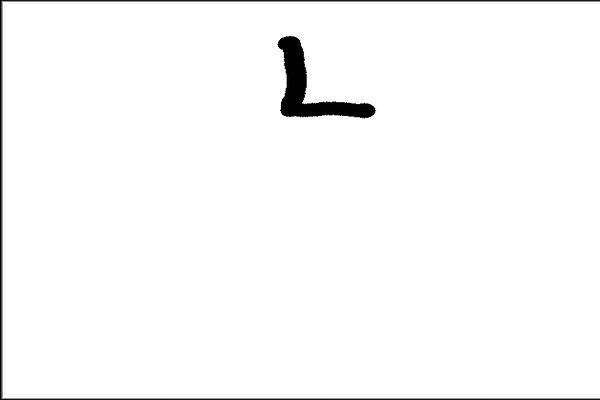L: (263, 21, 385, 129)
